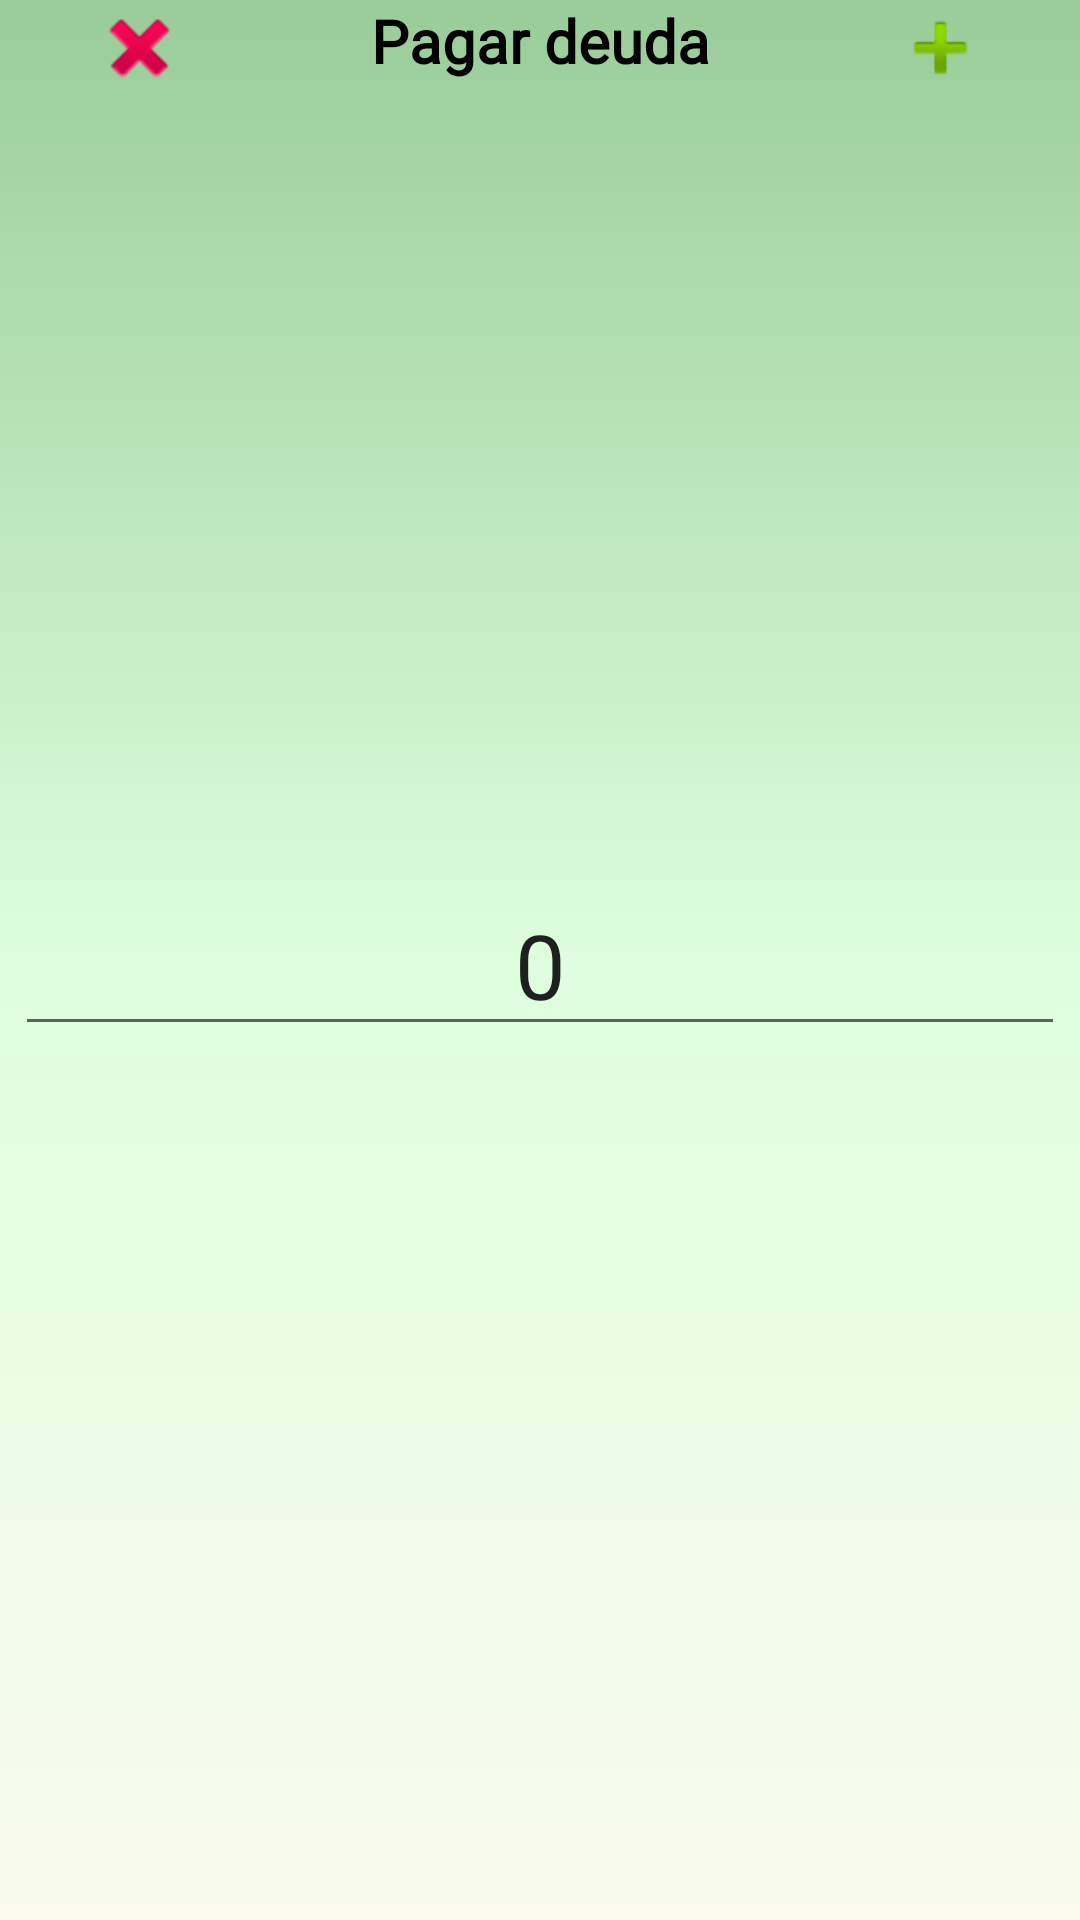

Icons on this 1080px x 1920px Android screen, each with its box as (x1, y1, x2, y2):
add: (913, 21, 968, 75)
delete: (109, 19, 170, 78)
